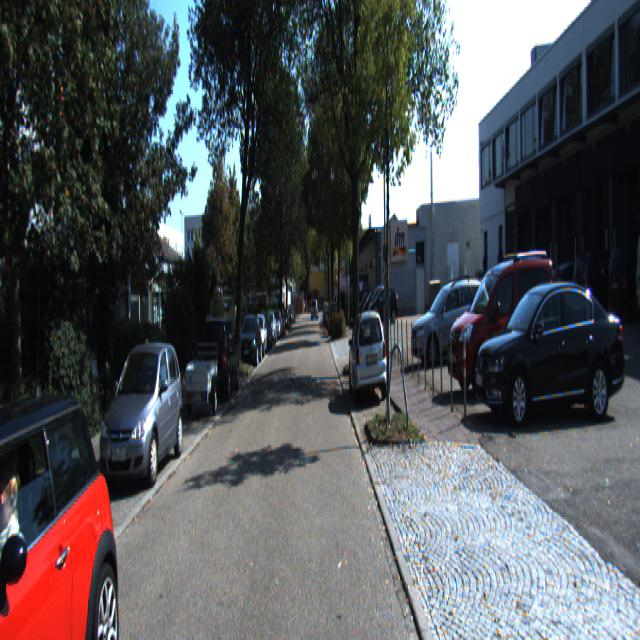Car: (0, 391, 126, 638), (470, 278, 632, 428), (445, 241, 565, 396), (99, 338, 185, 495), (409, 275, 491, 370), (570, 250, 639, 329), (543, 251, 614, 314), (347, 304, 389, 410), (202, 314, 240, 405), (181, 354, 219, 419), (238, 313, 262, 370), (630, 222, 640, 333)
